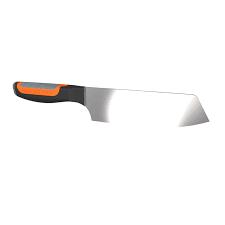Knife: (12, 80, 209, 127)
